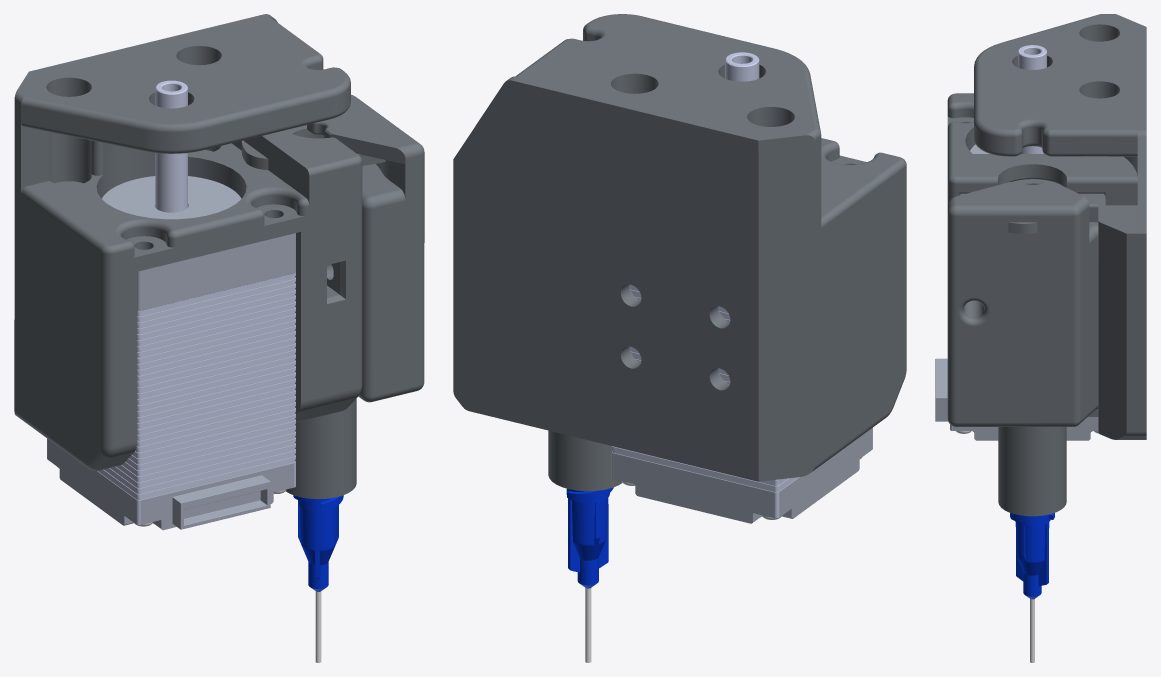
File: Extruder_Body.glb
The picture shows the model from 3 angles, left to right: view 1: azimuth 30°, elevation 25°; view 2: azimuth 150°, elevation 25°; view 3: azimuth 270°, elevation 25°; orthographic projection. The views are drawn at different scales.
Visible parts, largest first — view 1: Extruder Body; view 2: Extruder Body; view 3: Extruder Body.
Part boxes in pixels (x1,y1,x2,y2): Extruder Body: (14,14,424,662); Extruder Body: (453,14,906,662); Extruder Body: (935,14,1146,662).
Size of the model in its own units: 0.0577 by 0.1032 by 0.0361.
